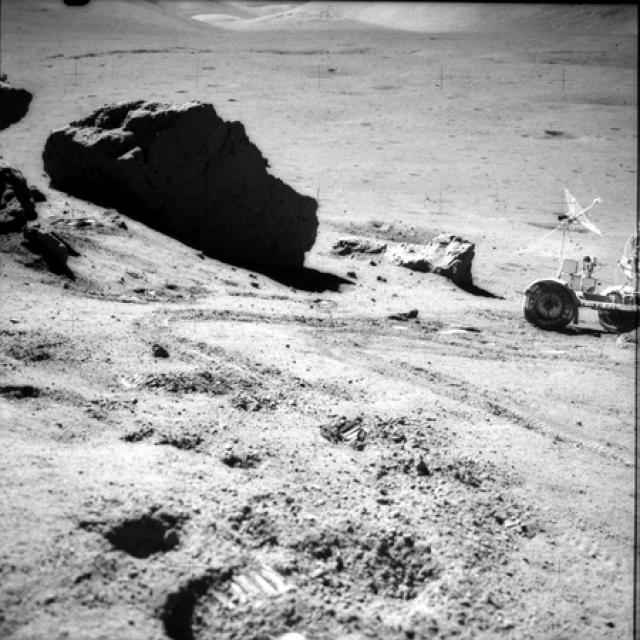artifact: (519, 169, 639, 336)
crater: (94, 501, 197, 558), (7, 324, 104, 372)
rock: (43, 79, 337, 281), (2, 158, 87, 281), (0, 79, 37, 138), (435, 232, 479, 280), (328, 230, 389, 262), (394, 248, 428, 276)
